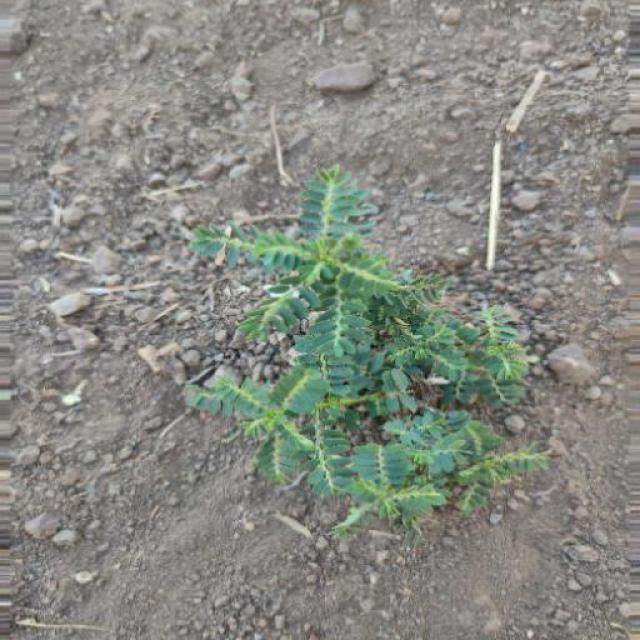weed: (185, 171, 556, 544)
